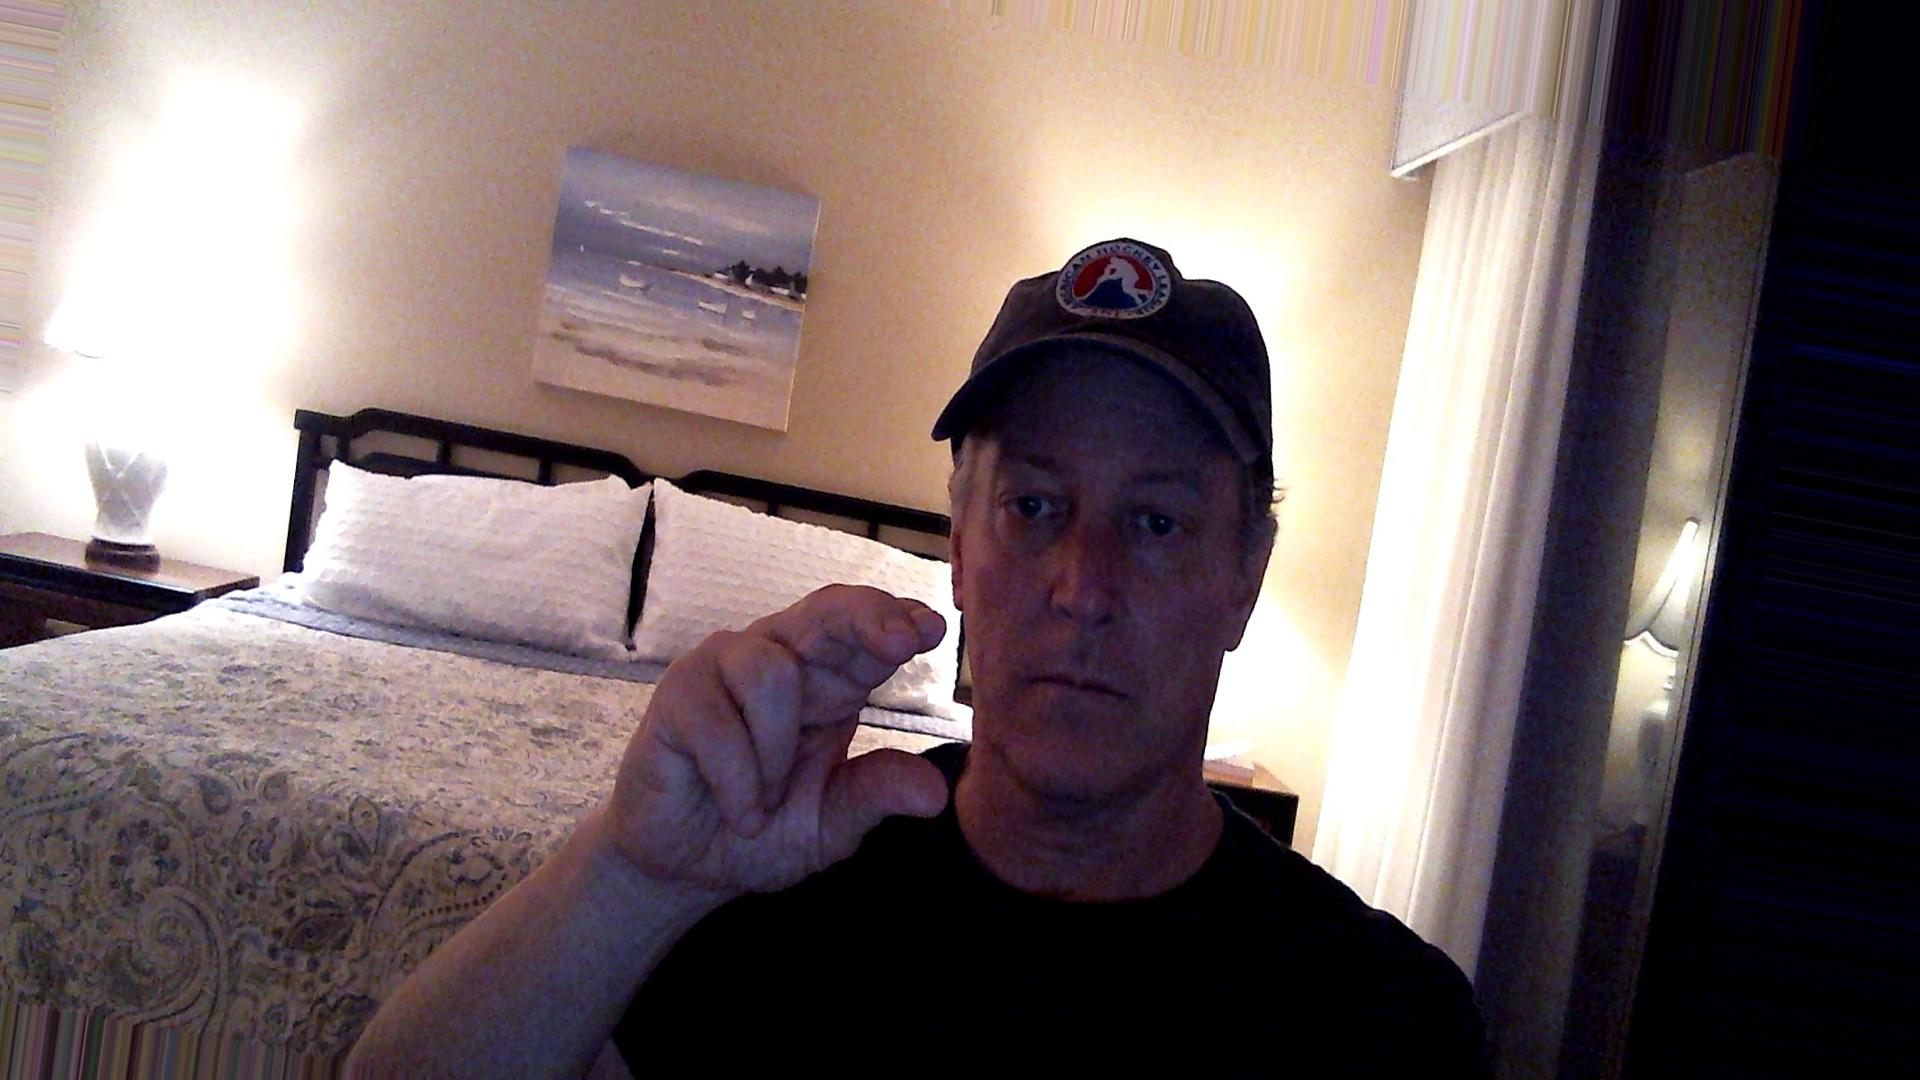No: (593, 562, 975, 918)
